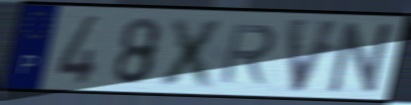4: (56, 12, 100, 86)
8: (113, 15, 164, 86)
N: (324, 20, 400, 96)
R: (216, 22, 280, 86)
V: (285, 15, 345, 95)
X: (155, 15, 231, 90)
